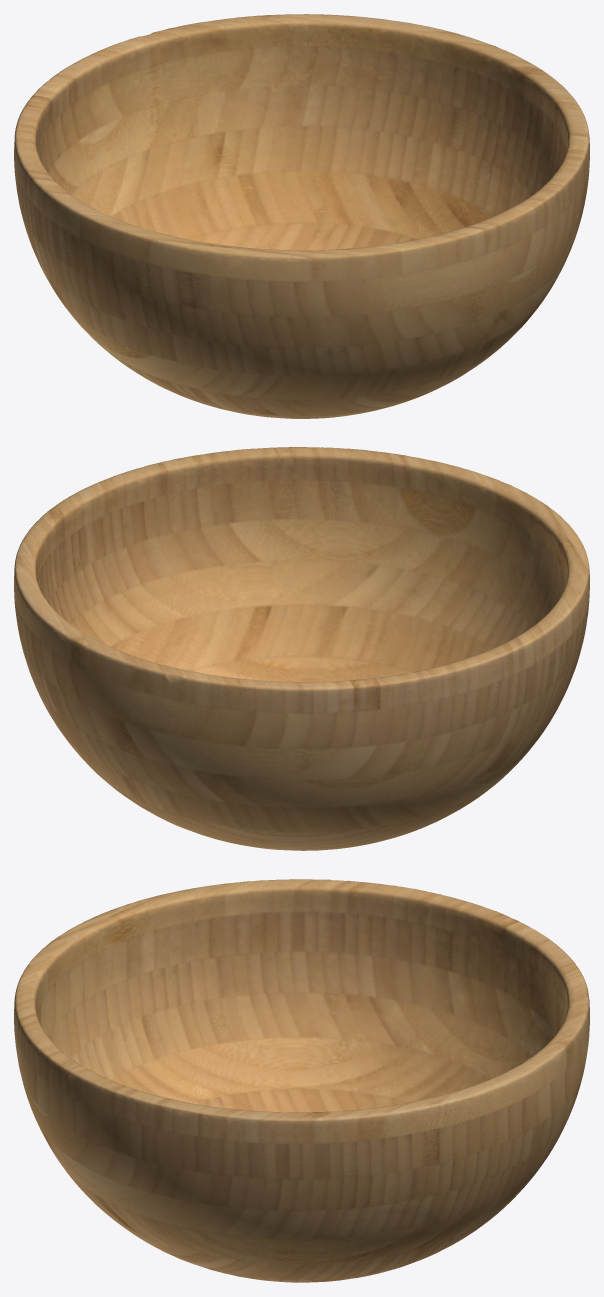
The picture shows the model from 3 angles, top to bottom: view 1: azimuth 30°, elevation 25°; view 2: azimuth 150°, elevation 25°; view 3: azimuth 270°, elevation 25°; orthographic projection.
Parts seen in each view (by area): view 1: geo; view 2: geo; view 3: geo.
Boxes of the visible parts, x1,y1,x2,y2 form: geo: (14,14,589,418); geo: (14,447,589,850); geo: (14,879,589,1282).
Bounding box in the file's own units: 0.28 × 0.13 × 0.2801.
Materials: 1 (1 with a texture image).
